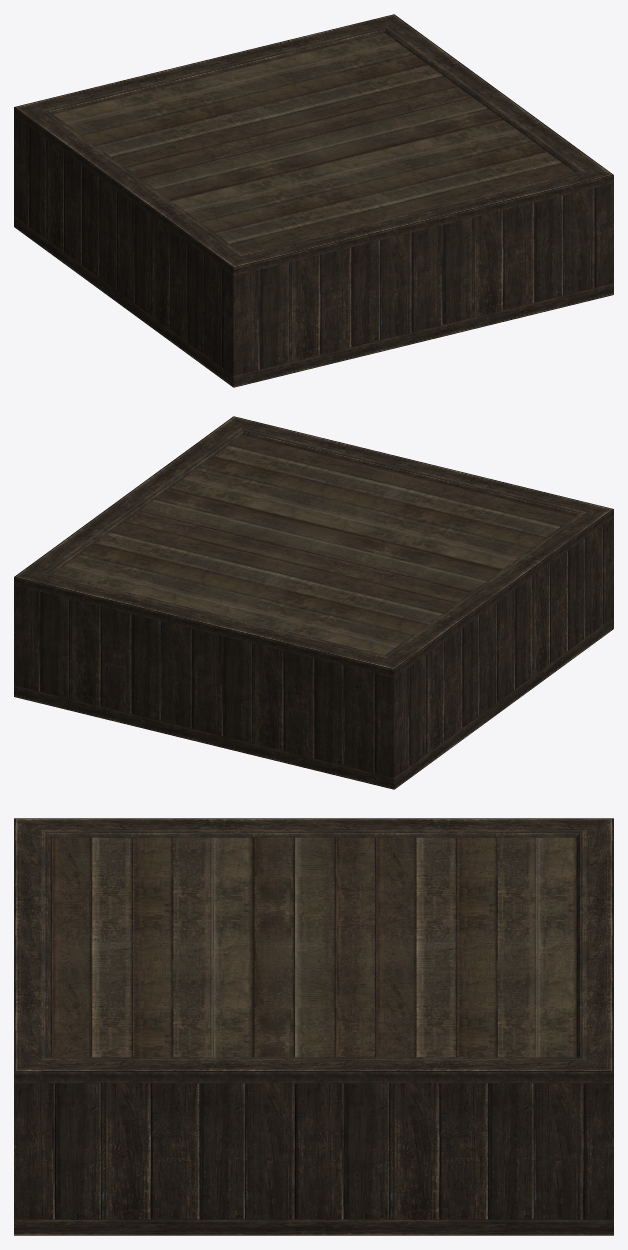
The model's file is vent03.glb.
3 renders of one model, top to bottom at view 1: azimuth 30°, elevation 25°; view 2: azimuth 150°, elevation 25°; view 3: azimuth 270°, elevation 25°, orthographic. The views are drawn at different scales.
Visible parts, largest first — view 1: vent03; view 2: vent03; view 3: vent03.
Boxes of the visible parts, box(x1,y1,x2,y2) form: vent03: box(14, 14, 613, 387); vent03: box(14, 416, 613, 789); vent03: box(14, 818, 613, 1235).
Bounding box in the file's own units: 5.03 × 1.52 × 5.03.
2 materials, 2 textured.
